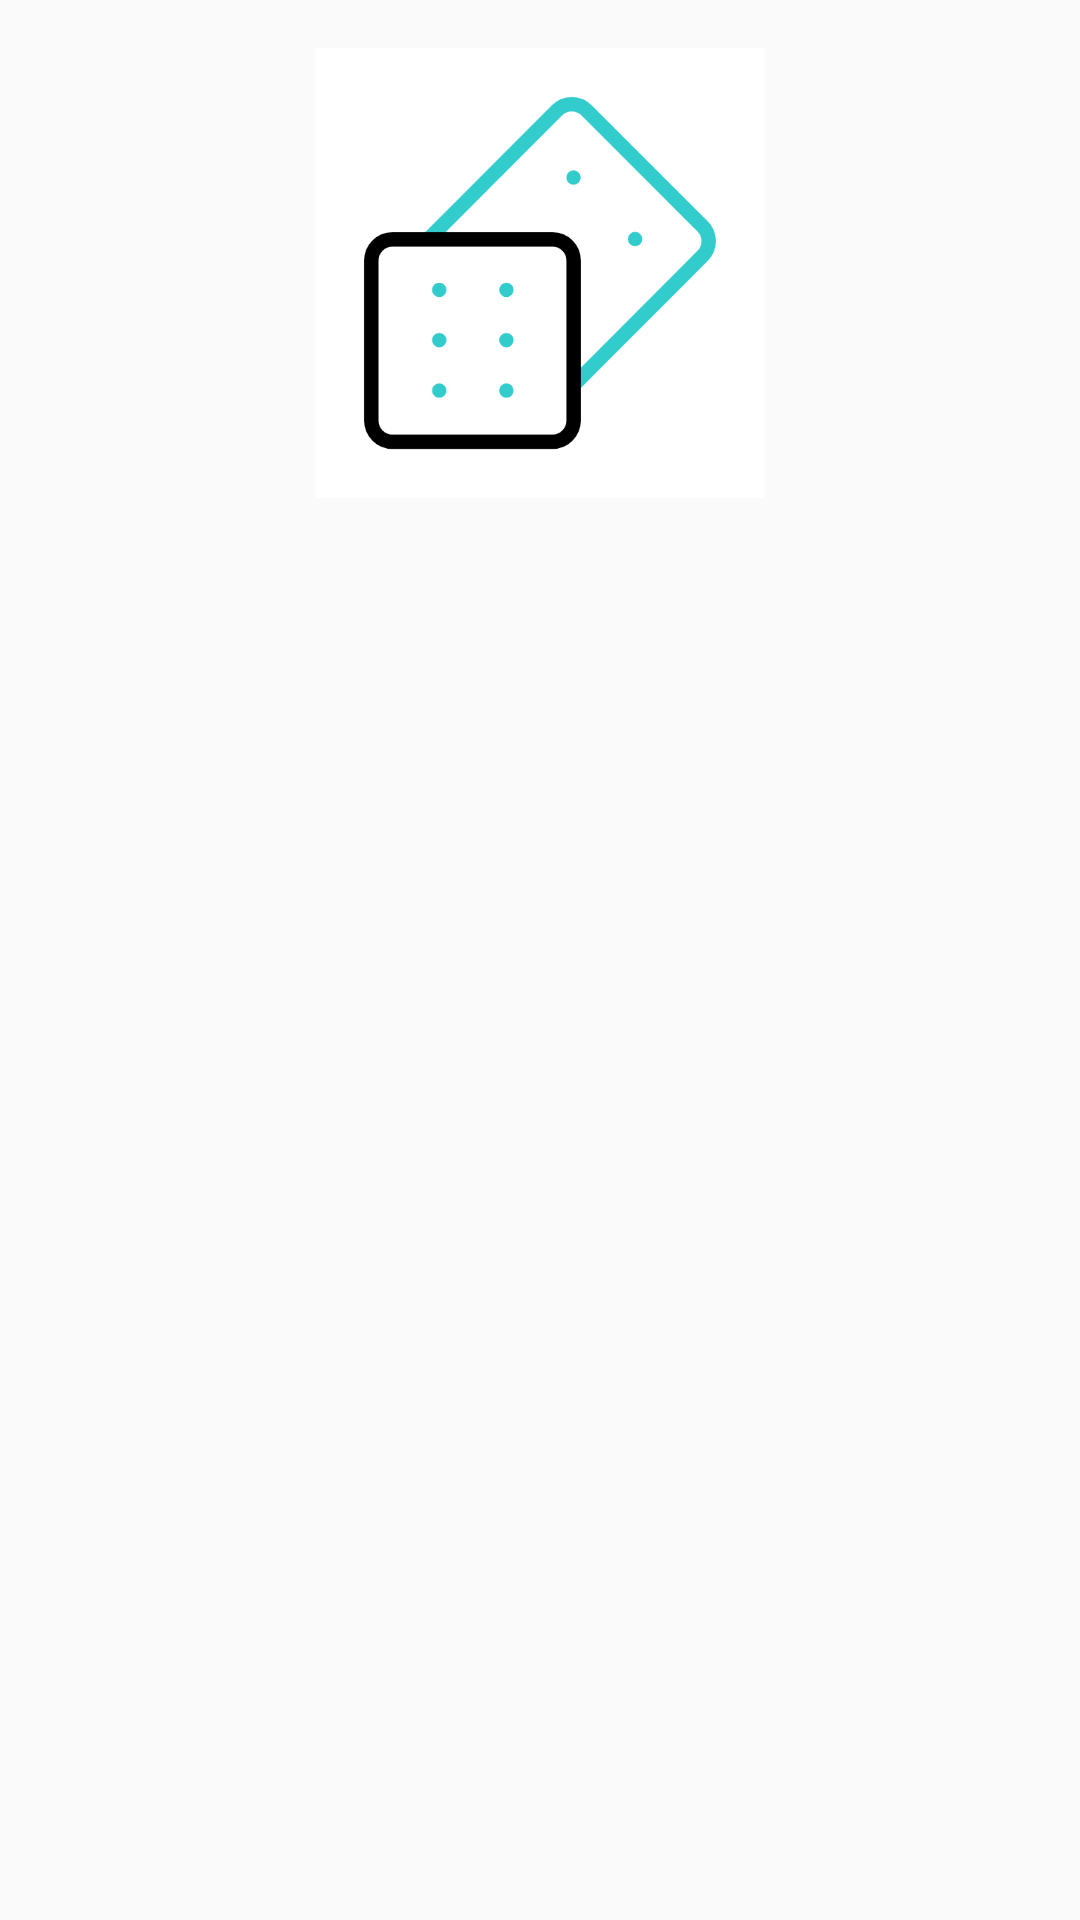

Screen size 1080 x 1920. Icon name, then its box in pixels as (x1, y1, x2, y2):
dadogif: (364, 97, 716, 450)
